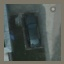car: (21, 11, 42, 48)
